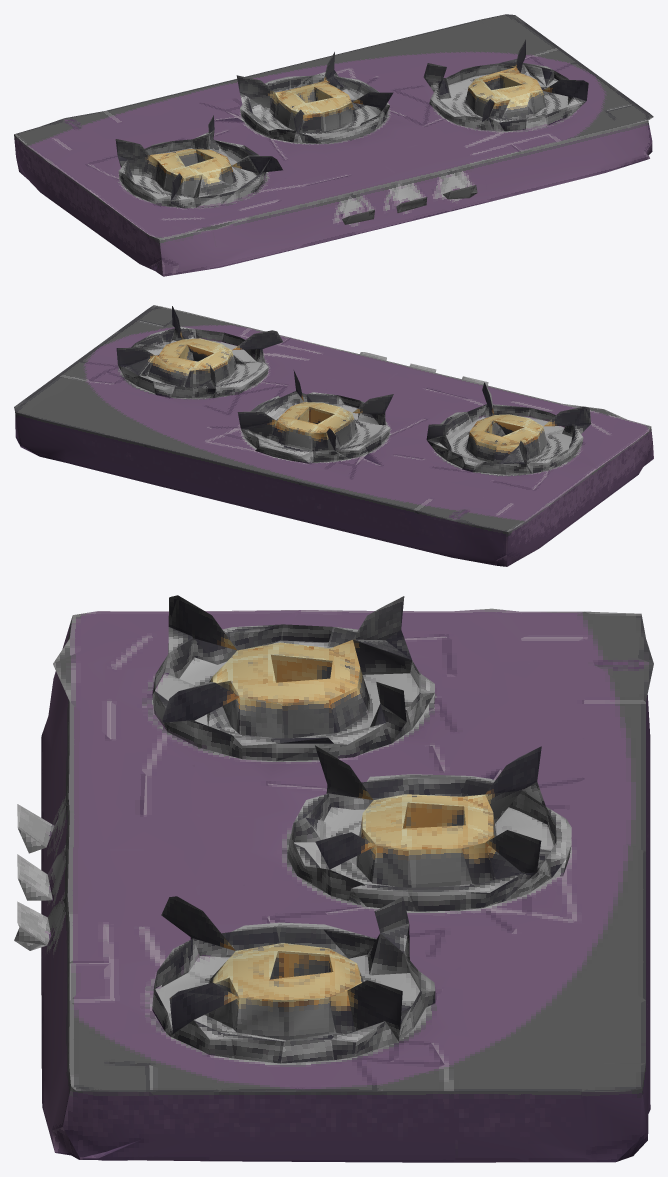
File: gas_stove_top.glb
3 renders of one model, top to bottom at view 1: azimuth 30°, elevation 25°; view 2: azimuth 150°, elevation 25°; view 3: azimuth 270°, elevation 25°, orthographic. The views are drawn at different scales.
Visible parts, largest first — view 1: mesh; view 2: mesh; view 3: mesh.
Part boxes in pixels (box(x1,y1,x2,y2)): mesh: box(14, 14, 653, 276); mesh: box(14, 305, 653, 566); mesh: box(14, 595, 653, 1162).
Bounding box in the file's own units: 0.8965 × 0.1199 × 0.5017.
1 material, 1 textured.
